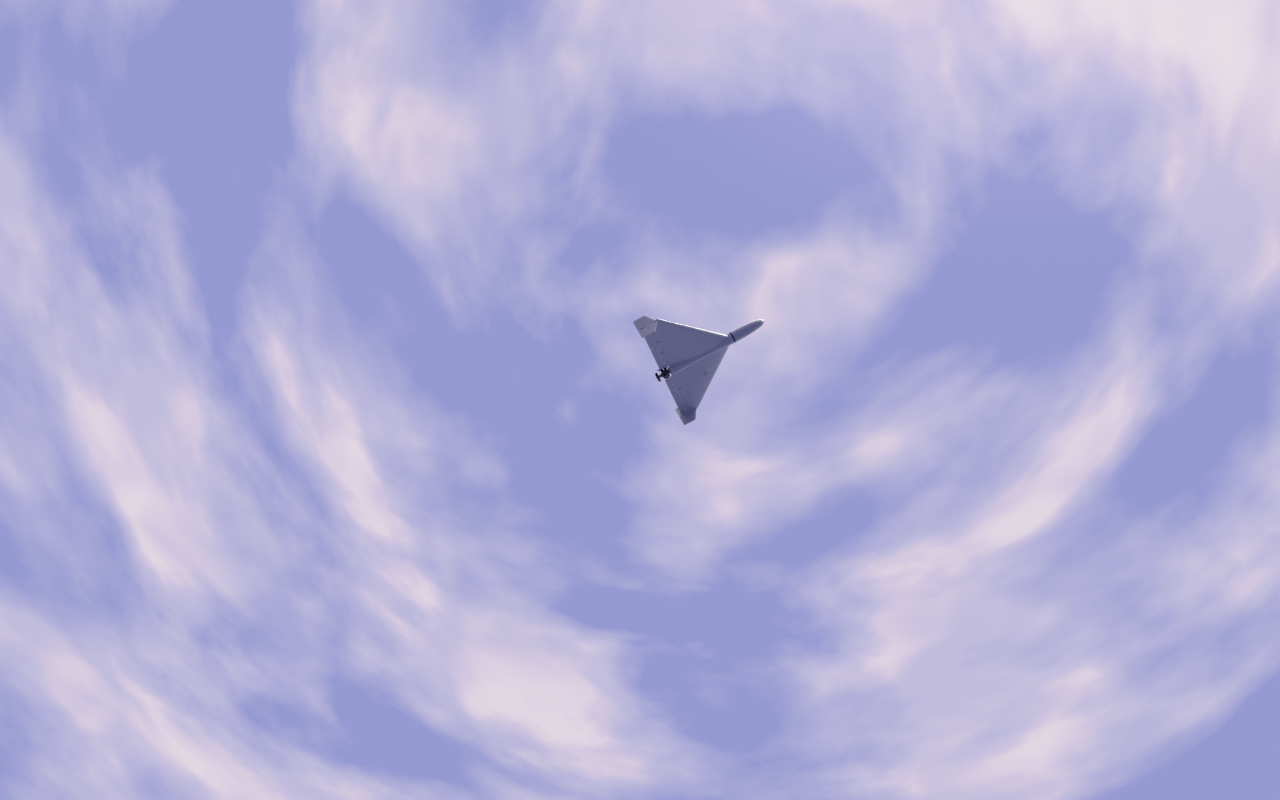shahed: (633, 315, 766, 427)
